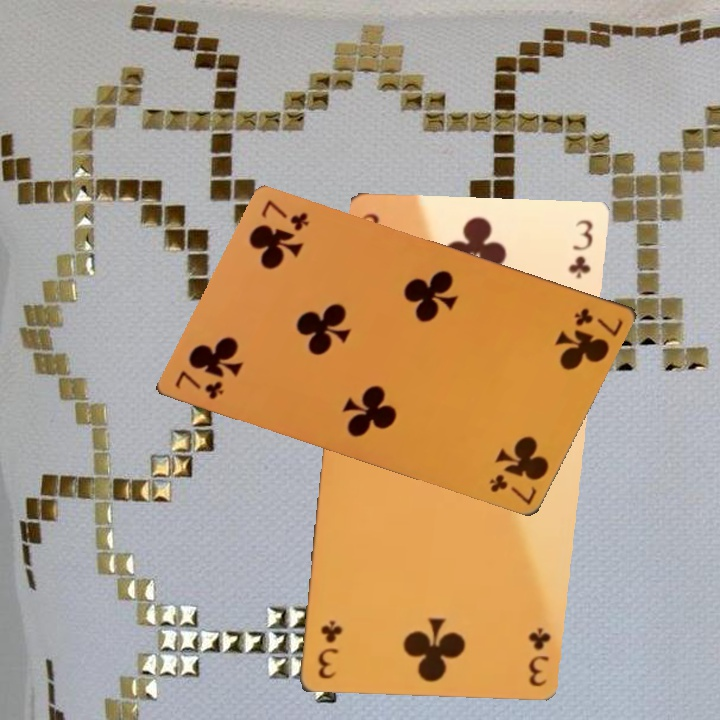3c: (308, 608, 342, 680), (519, 616, 553, 687)
7c: (475, 467, 540, 506), (251, 196, 316, 235), (561, 299, 625, 338), (166, 364, 230, 403)
